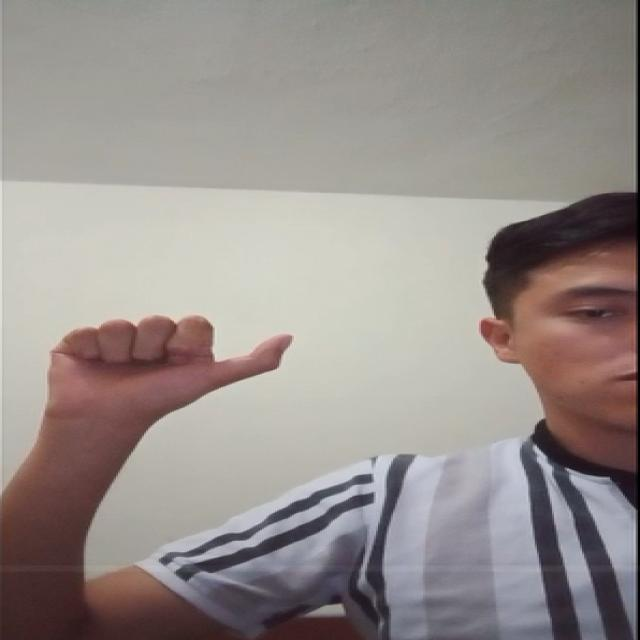A: (40, 302, 362, 422)
